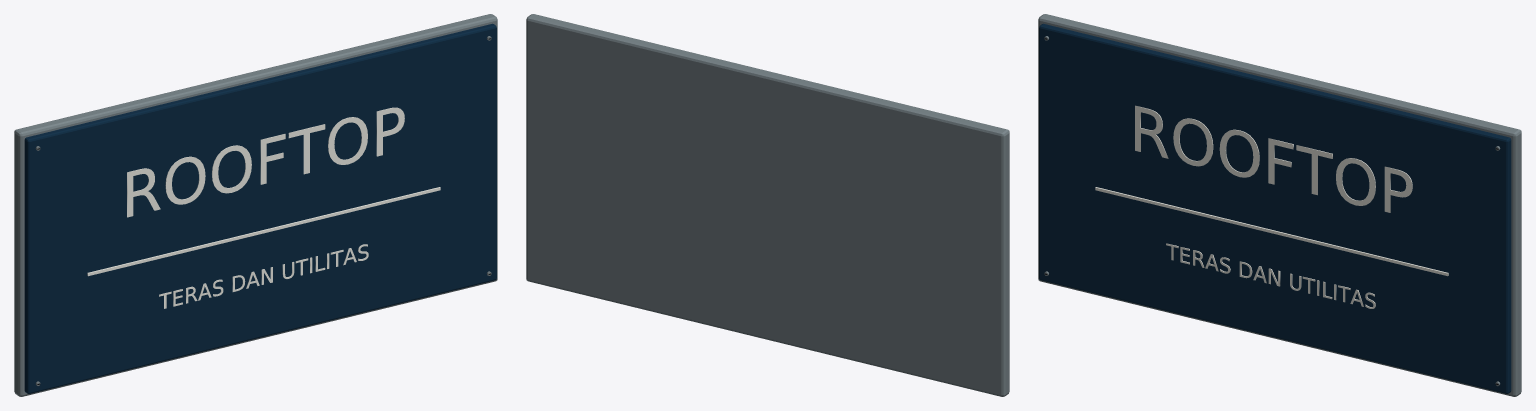
Rendered from OAA_Papan_Lantai_Rooftop.fbx.
The picture shows the model from 3 angles, left to right: view 1: azimuth 30°, elevation 25°; view 2: azimuth 150°, elevation 25°; view 3: azimuth 330°, elevation 25°; orthographic projection.
Visible parts, largest first — view 1: Body; view 2: Body; view 3: Body.
Part boxes in pixels (left/top/right/bottom): Body: left=14, top=14, right=497, bottom=396; Body: left=526, top=14, right=1009, bottom=396; Body: left=1038, top=14, right=1521, bottom=396.
Size of the model in its own units: 0.72 by 0.38 by 0.0315.
